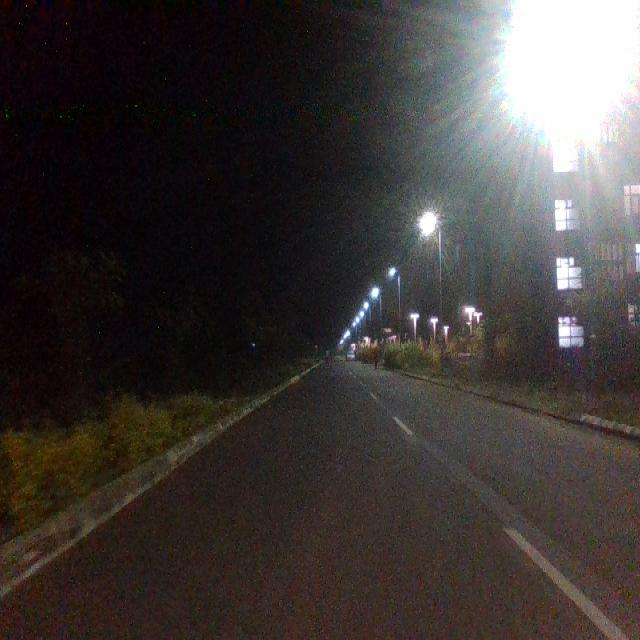lane: (0, 365, 610, 640)
